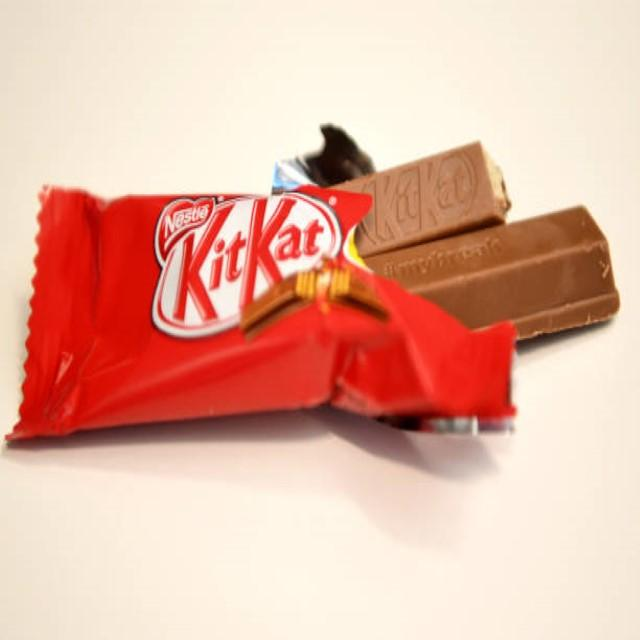kitkat_chocolate: (62, 187, 443, 463)
